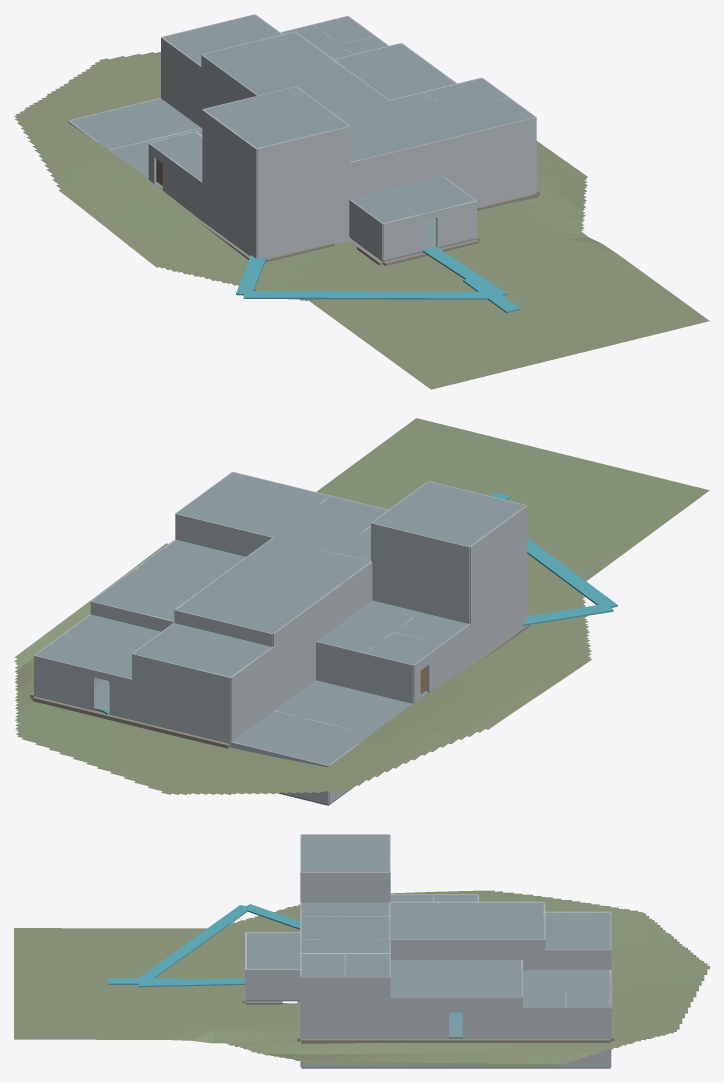
Rendered from open-circulation.glb.
3 renders of one model, top to bottom at view 1: azimuth 30°, elevation 25°; view 2: azimuth 150°, elevation 25°; view 3: azimuth 270°, elevation 25°, orthographic. The views are drawn at different scales.
Visible parts, largest first — view 1: Saved editor macroterrain CHURCH, Ceiling cap nave, Ceiling cap belfry, Ceiling cap chapel, Wall belfry S, Wall tower-stair S, Ceiling cap choir, Ceiling cap vestibule, Wall crypt-entry S, Ceiling cap chancel, Wall chancel W, Ceiling cap vault-north (+30 smaller); view 2: Saved editor macroterrain CHURCH, Ceiling cap nave, Wall chancel N, Ceiling cap chapel, Ceiling cap belfry, Flat route shell Wall nave W, Ceiling cap chancel, Wall belfry N, Wall tower-stair N, Ceiling cap choir, Wall chancel W, Ceiling cap vault-north (+32 smaller); view 3: Saved editor macroterrain CHURCH, Ceiling cap nave, Ceiling cap chapel, Ceiling cap belfry, Wall crypt-entry E, Wall belfry E, Ceiling cap chancel, Flat route shell Wall chapel E, Flat route shell Wall chapel E.001, Ceiling cap choir, Ceiling cap vestibule, Ceiling cap vestry (+21 smaller).
Boxes of the visible parts, x1,y1,x2,y2 form: Saved editor macroterrain CHURCH: (14,51,709,389); Ceiling cap nave: (202,32,388,113); Ceiling cap belfry: (203,87,348,148); Ceiling cap chapel: (334,43,455,99); Wall belfry S: (256,126,350,185); Wall tower-stair S: (256,163,350,221); Ceiling cap choir: (335,101,441,153); Ceiling cap vestibule: (350,177,475,223); Wall crypt-entry S: (444,154,535,204); Ceiling cap chancel: (162,14,281,65); Wall chancel W: (161,37,201,127); Ceiling cap vault-north: (69,98,187,140); Saved editor macroterrain CHURCH: (14,418,709,794); Ceiling cap nave: (175,537,370,633); Wall chancel N: (132,654,230,741); Ceiling cap chapel: (92,540,245,620); Ceiling cap belfry: (372,481,525,546); Flat route shell Wall nave W: (273,585,340,710); Ceiling cap chancel: (133,623,271,676); Wall belfry N: (371,523,469,585); Wall tower-stair N: (372,562,469,623); Ceiling cap choir: (274,496,387,552); Wall chancel W: (230,646,273,741); Ceiling cap vault-north: (232,721,356,765); Saved editor macroterrain CHURCH: (14,890,709,1066); Ceiling cap nave: (389,902,544,939); Ceiling cap chapel: (390,960,522,996); Ceiling cap belfry: (301,834,389,871); Wall crypt-entry E: (301,1007,389,1037); Wall belfry E: (301,872,389,902); Ceiling cap chancel: (545,912,610,949); Flat route shell Wall chapel E: (462,997,522,1037); Flat route shell Wall chapel E.001: (389,997,449,1037); Ceiling cap choir: (301,916,389,939); Ceiling cap vestibule: (247,932,300,969); Ceiling cap vestry: (523,970,610,992).
Bounding box in the file's own units: 36 × 12.16 × 63.
18 materials, 11 textured.
